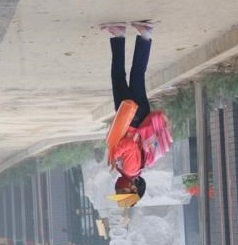person: (97, 20, 173, 209)
